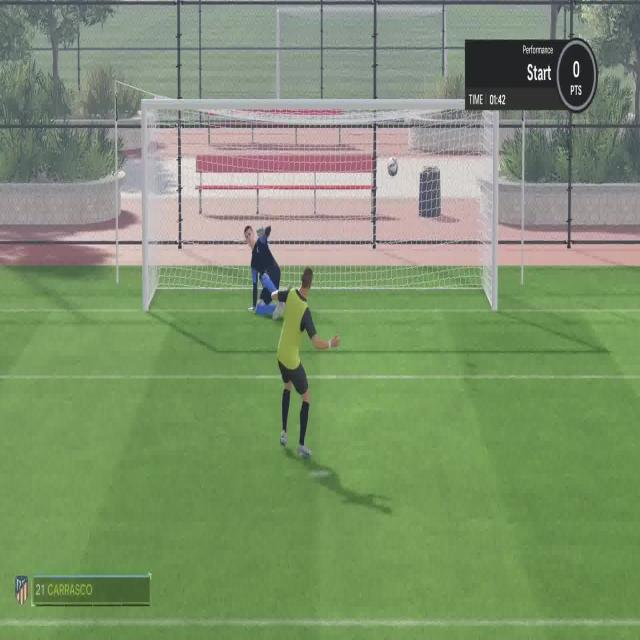football: (383, 151, 403, 178)
goal-bottom-left: (147, 212, 262, 312)
goal-bottom-right: (378, 212, 492, 312)
goal-middle-down: (262, 211, 377, 313)
goal-middle-up: (262, 109, 378, 211)
goal-top-left: (147, 110, 262, 211)
goal-top-right: (378, 110, 493, 211)
goalkeeper: (239, 213, 289, 315)
player: (269, 259, 337, 456)
